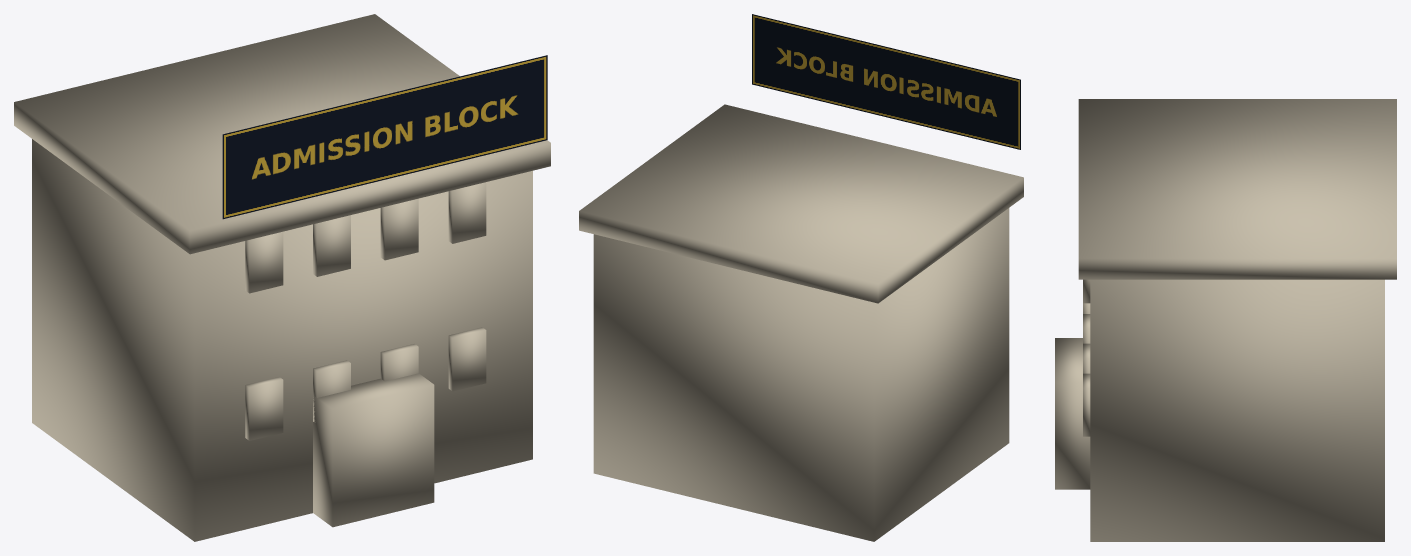
The model's file is admission-block.glb.
The picture shows the model from 3 angles, left to right: view 1: azimuth 30°, elevation 25°; view 2: azimuth 150°, elevation 25°; view 3: azimuth 270°, elevation 25°; orthographic projection. The views are drawn at different scales.
Parts seen in each view (by area): view 1: Model, Sign; view 2: Model, Sign; view 3: Model.
Part boxes in pixels (x1=…): Model: x1=14, y1=14, x2=550, y2=541; Sign: x1=222, y1=55, x2=547, y2=219; Model: x1=579, y1=104, x2=1023, y2=541; Sign: x1=752, y1=14, x2=1020, y2=149; Model: x1=1055, y1=99, x2=1396, y2=541.
Size of the model in its own units: 6.4 by 7.14 by 5.85.
Materials: 1 (1 with a texture image).
